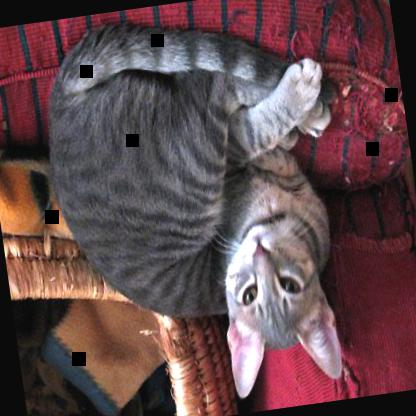cat: (31, 0, 370, 415)
